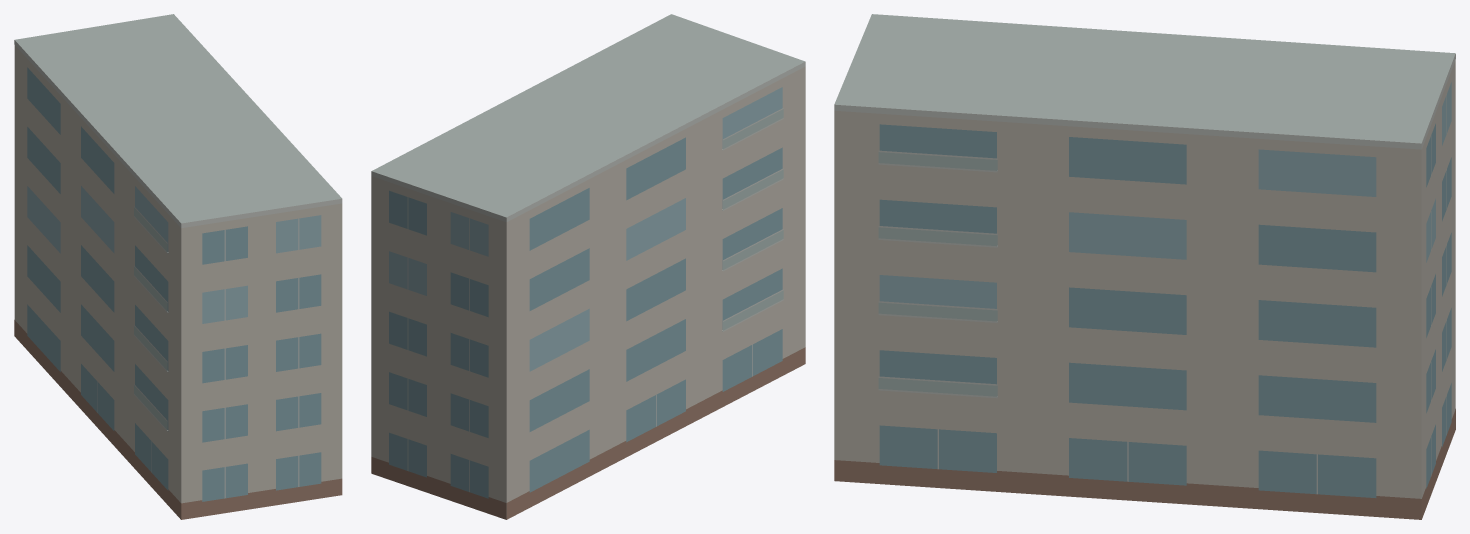
Rendered from survey-upis-32666114.glb.
The picture shows the model from 3 angles, left to right: view 1: azimuth 30°, elevation 25°; view 2: azimuth 150°, elevation 25°; view 3: azimuth 270°, elevation 25°; orthographic projection. The views are drawn at different scales.
Visible parts, largest first — view 1: survey-upis-32666114.tmp; view 2: survey-upis-32666114.tmp; view 3: survey-upis-32666114.tmp.
Boxes of the visible parts, x1,y1,x2,y2 form: survey-upis-32666114.tmp: (14, 14, 342, 519); survey-upis-32666114.tmp: (371, 14, 805, 519); survey-upis-32666114.tmp: (834, 14, 1455, 519).
Size of the model in its own units: 11.27 by 15.25 by 22.84.
